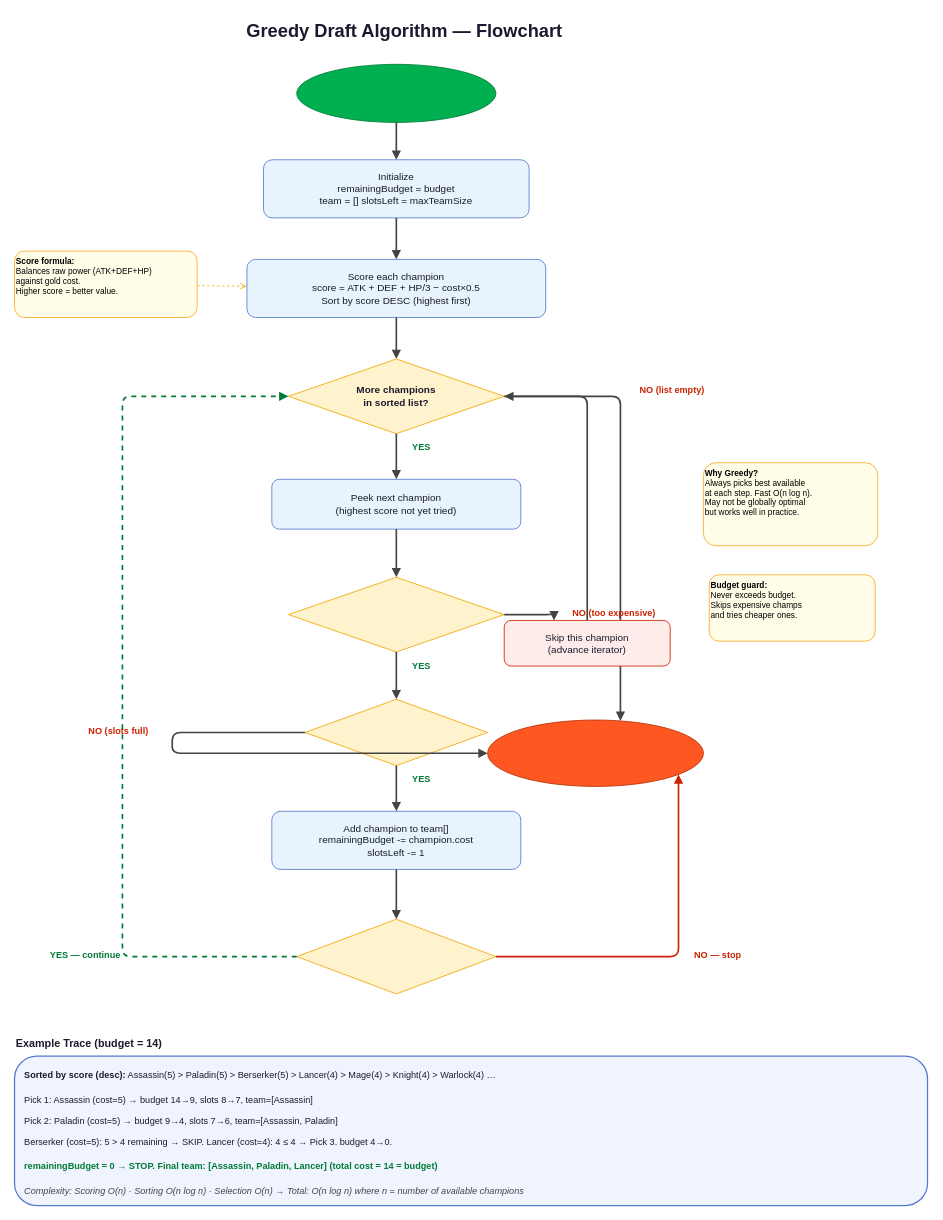
This 943x1220 diagram has some shape labels left out. The shapes that lost their labels are listed below. From the top down, each one's centre as x and y in pixels, then its label:
[396,92]: START Receive Gold Budget
[396,614]: champion.cost ≤ remainingBudget?
[396,732]: slotsLeft > 0?
[595,752]: DONE Return team[] (best greedy composition)
[396,956]: remainingBudget > 0 AND slotsLeft > 0?
